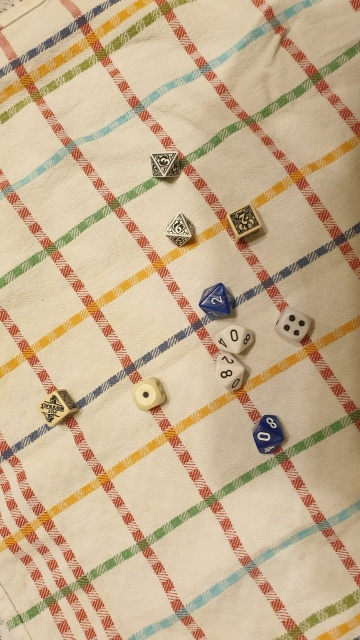d10-10: (247, 410, 286, 462), (210, 323, 257, 357)
d10-2: (196, 279, 235, 325)
d10-8: (210, 352, 252, 397)
d6-1: (127, 375, 169, 413)
d6-4: (271, 302, 318, 349)
d6p-1: (31, 385, 79, 432)
d6p-2: (225, 203, 265, 244)
d8p-3: (145, 148, 186, 183)
d8p-6: (160, 208, 199, 251)
